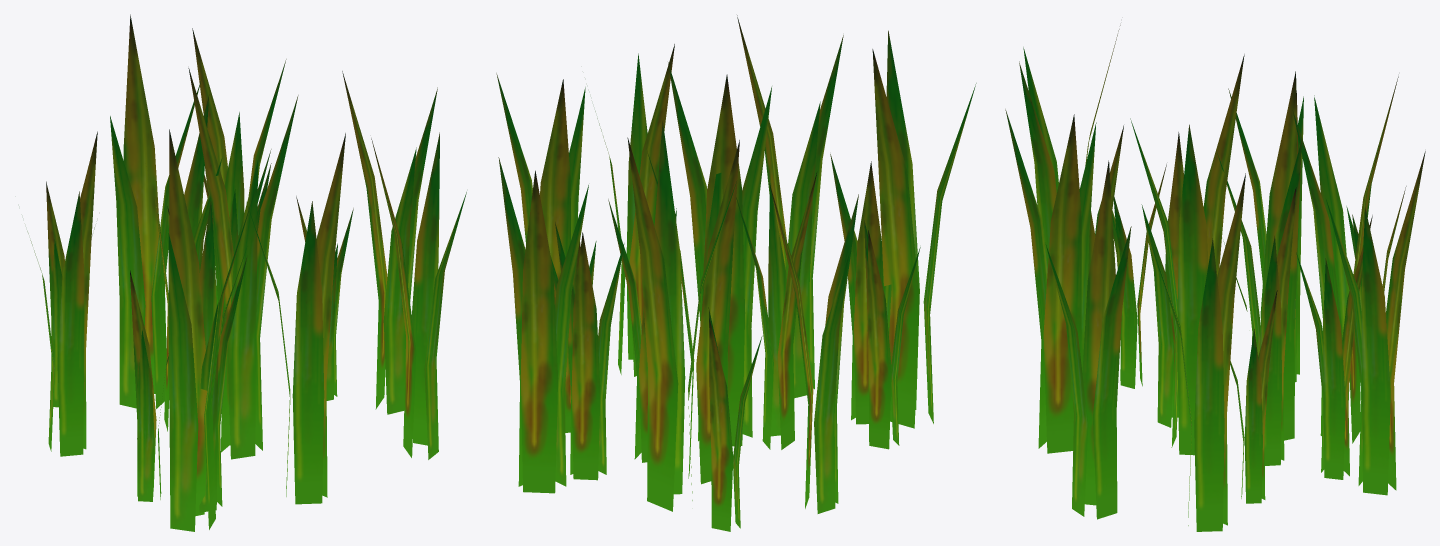
The model's file is grass.gltf.
The picture shows the model from 3 angles, left to right: view 1: azimuth 30°, elevation 25°; view 2: azimuth 150°, elevation 25°; view 3: azimuth 270°, elevation 25°; orthographic projection. The views are drawn at different scales.
Visible parts, largest first — view 1: grass; view 2: grass; view 3: grass.
Boxes of the visible parts, bbox=[...] form: grass: bbox=[27, 14, 466, 531]; grass: bbox=[496, 15, 976, 531]; grass: bbox=[1005, 25, 1425, 531].
Bounding box in the file's own units: 1.01 × 0.9484 × 0.9515.
